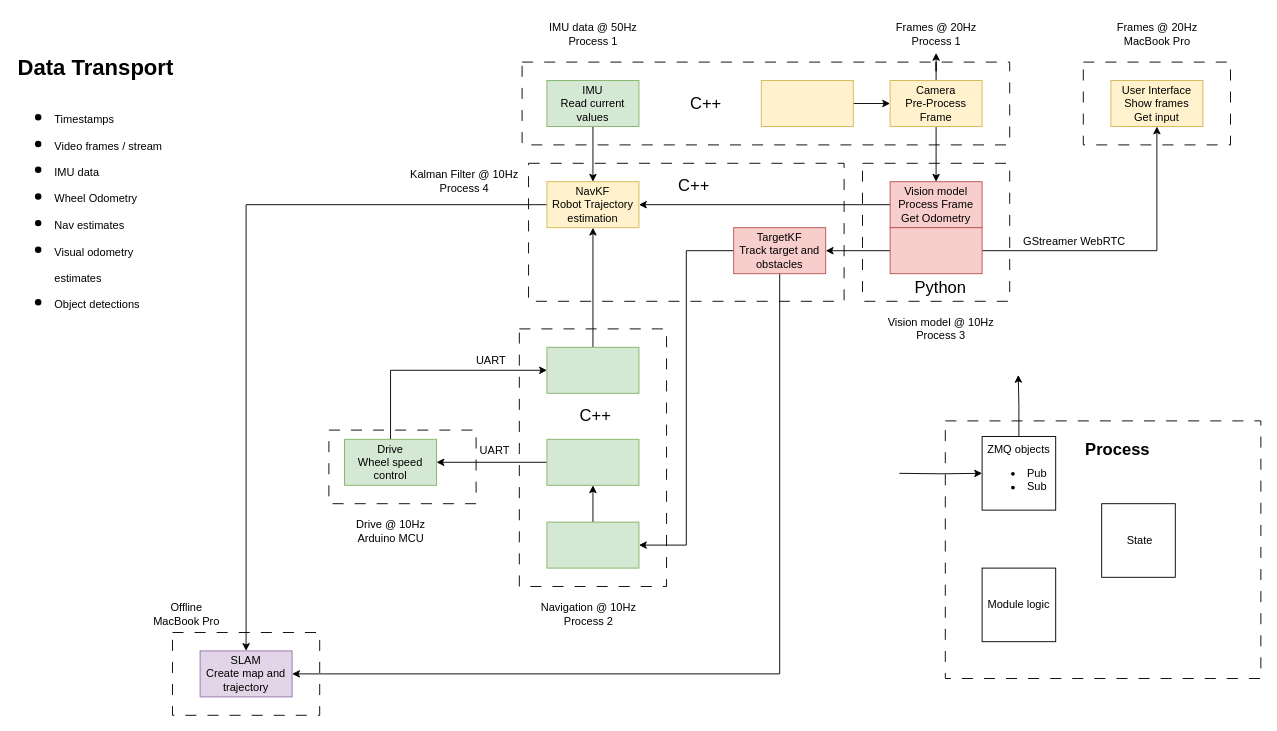
Image size: 1277x731. Some labels were removed from this diagram. Each missing label, with the box of its shape:
Camera Get Frame: (760, 80, 853, 126)
Navigation Odometry Inverse kinematics: (546, 346, 639, 393)
Navigation Set direction and Velocity: (546, 438, 639, 485)
Navigation Vector field: (546, 521, 639, 568)
Vision model Process frame Detect objects: (889, 227, 982, 274)
